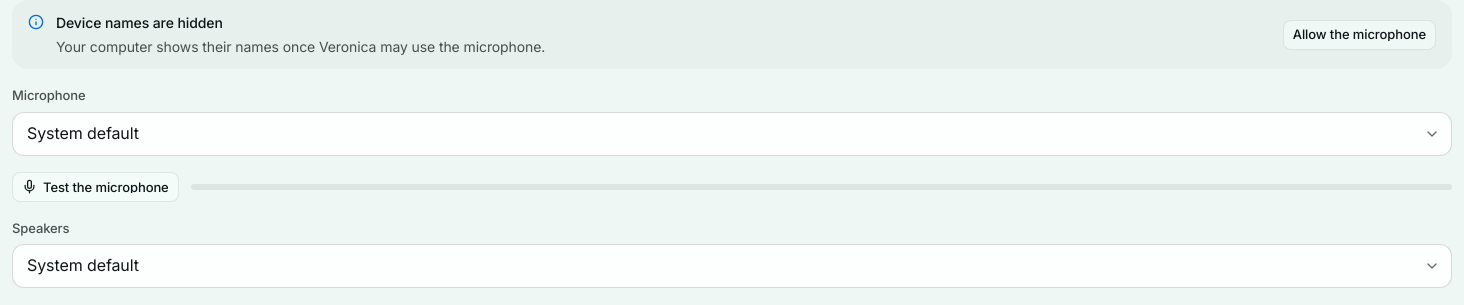
Test case: choosing a microphone › asks to see device names, and says how to fix a refusal
Click the button "Allow the microphone": (1359, 35) [1283,20,1436,50]
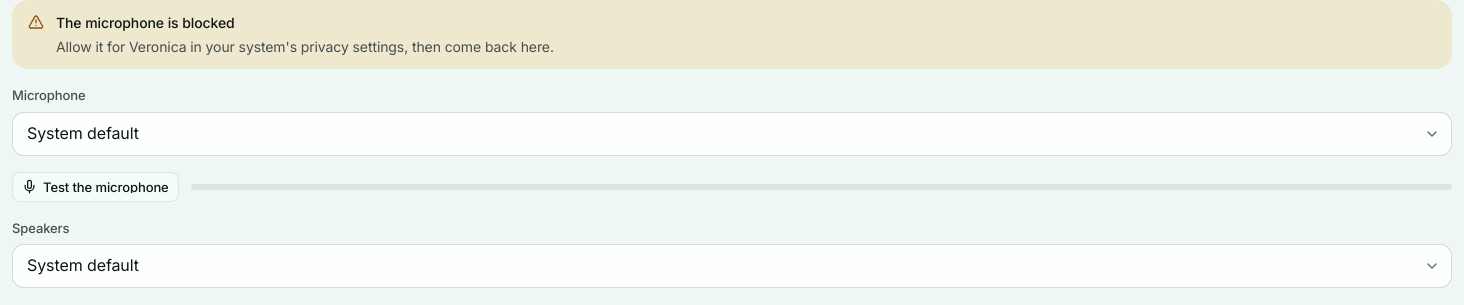
Expected: the text "The microphone is blocked" is shown, [56,14,235,31]
